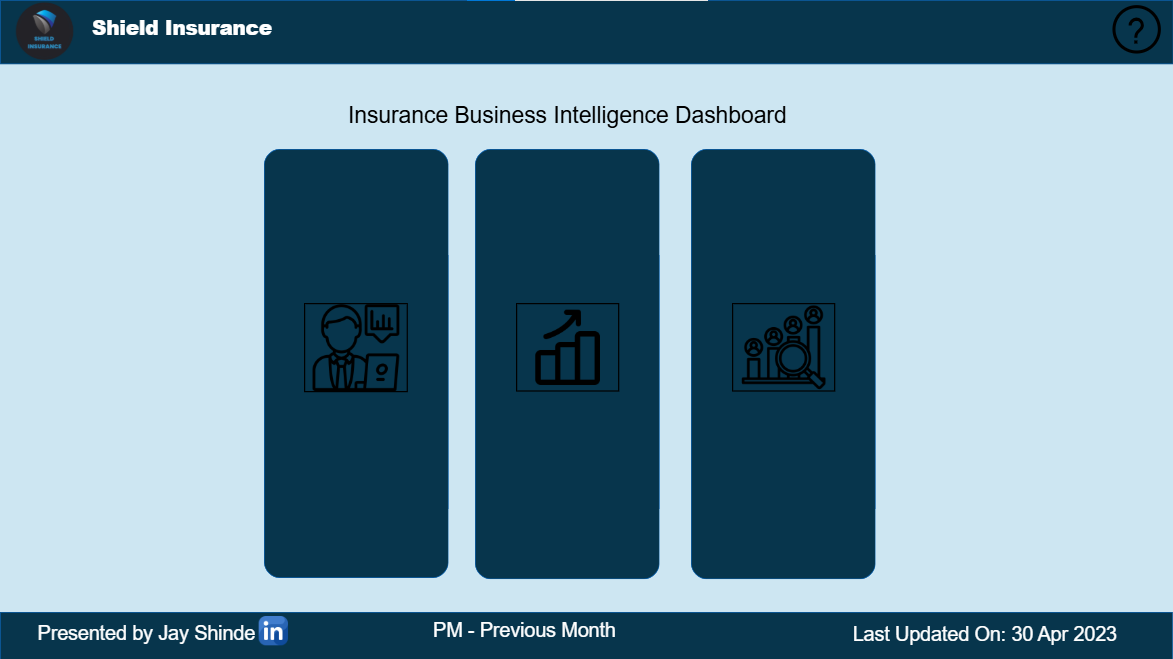

What the dashboard file says about the page in this screenshot:
{"tool":"powerbi","page":{"name":"Landing Page","canvas":[1920,1080],"ordinal":0},"visuals":[{"type":"shape","box":[0,0,1920,105],"z":0},{"type":"shape","box":[0,1001.9,1919.3,78.1],"z":1000},{"type":"shape","box":[778,244,302,704],"z":2000},{"type":"image","box":[844.3,496.3,169.2,145.3],"z":3000},{"type":"shape","box":[1130,244,302,704],"z":4000},{"type":"image","box":[1197,496.3,169.2,145.3],"z":5000},{"type":"shape","box":[432,244,302,702],"z":6000},{"type":"image","box":[498,495.9,170,146],"z":7000},{"type":"textbox","box":[696.1,1008.3,325.3,58.6],"z":8000},{"type":"image","box":[0,0,145.3,101.9],"z":9000},{"type":"textbox","box":[364,162,1130,82],"z":10000},{"type":"cardVisual","fields":{"Data":["Key Measures.Last Updated On"]},"box":[1366,998.6,554,78],"z":11000},{"type":"textbox","box":[145.3,17.3,433.7,67.2],"z":12000},{"type":"actionButton","box":[1800,0,120,96],"z":15000},{"type":"textbox","box":[48,1013.6,384,48],"z":16000},{"type":"image","box":[400,1008,96,48],"z":17000}]}

Visuals, with their boxes in screenshot pixels (x1, y1, x2, y2), scaled from the page's 1920x1080 canvas onto the 1173x659 screenshot:
shape: bbox=[0, 0, 1172, 64]
shape: bbox=[0, 611, 1172, 658]
shape: bbox=[475, 149, 660, 578]
image: bbox=[516, 303, 619, 391]
shape: bbox=[690, 149, 875, 578]
image: bbox=[731, 303, 835, 391]
shape: bbox=[264, 149, 448, 577]
image: bbox=[304, 303, 408, 392]
textbox: bbox=[425, 615, 624, 651]
image: bbox=[0, 0, 89, 62]
textbox: bbox=[222, 99, 913, 149]
cardVisual - Key Measures.Last Updated On: bbox=[835, 609, 1172, 657]
textbox: bbox=[89, 11, 354, 52]
actionButton: bbox=[1100, 0, 1172, 59]
textbox: bbox=[29, 618, 264, 648]
image: bbox=[244, 615, 303, 644]
